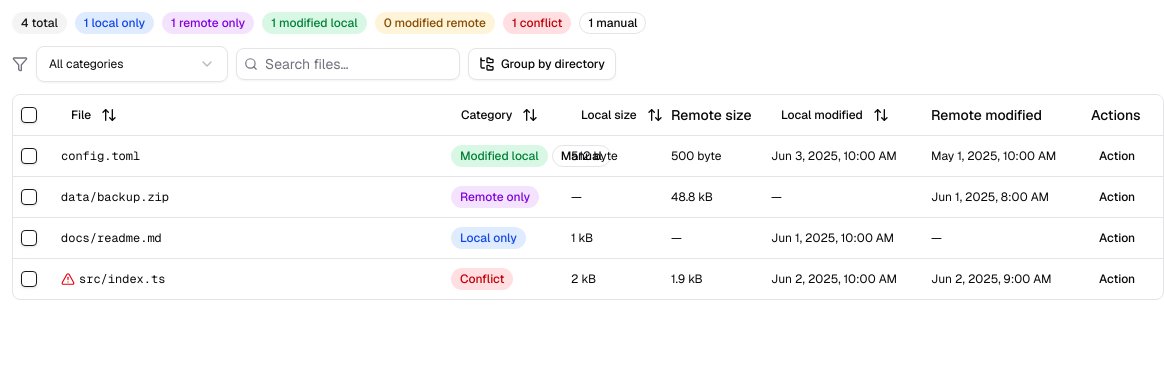
Checkboxes present on rows, select-all toggles all › has checkboxes on each row and a select-all in header
Expected: the checkbox named "Select docs/readme.md" is shown, [21,230,37,246]
Expected: the checkbox named "Select src/index.ts" is shown, [21,270,37,286]
# Click select-all
Click the checkbox named "Select all files" at (29, 115), box [21,107,37,123]
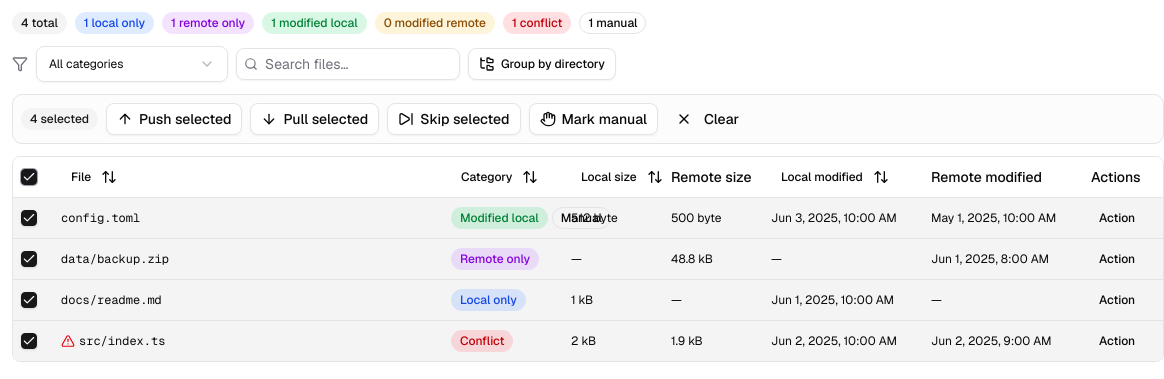
Now the text "4 selected" is shown, box [21,108,98,130]
# Click select-all again to deselect
Click the checkbox named "Select all files" at (29, 177), box [21,169,37,185]
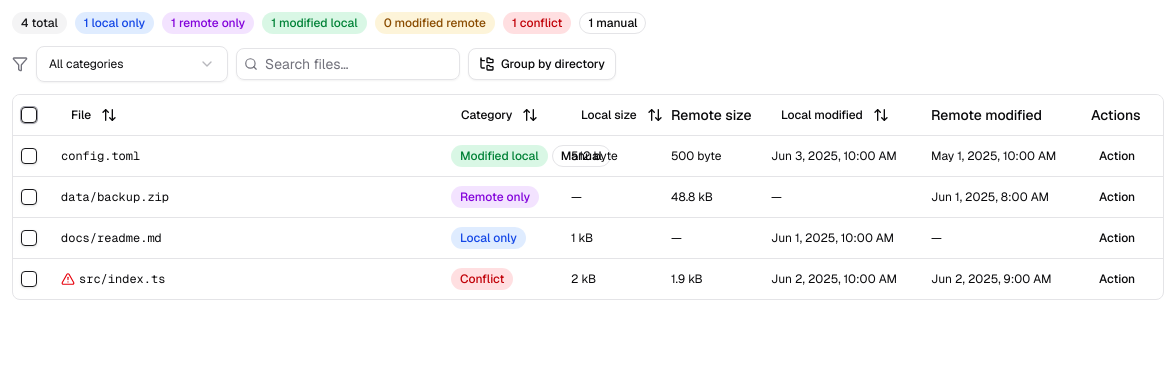
Now the text "4 selected" is gone
